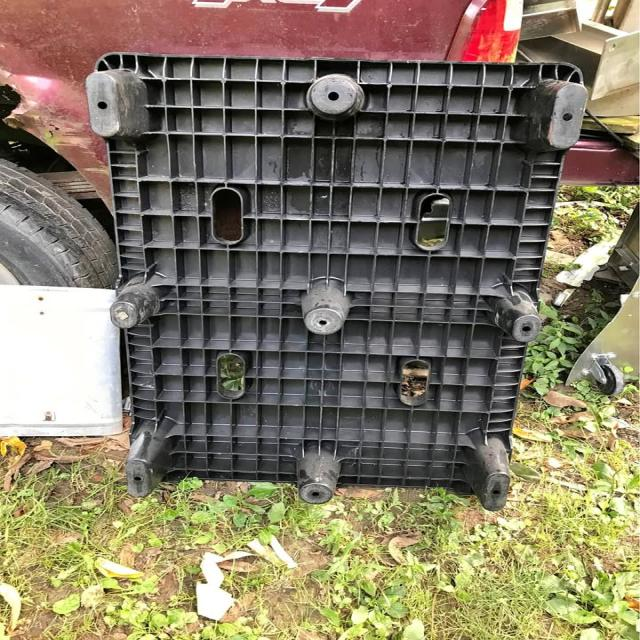non-igps: (79, 46, 597, 516)
